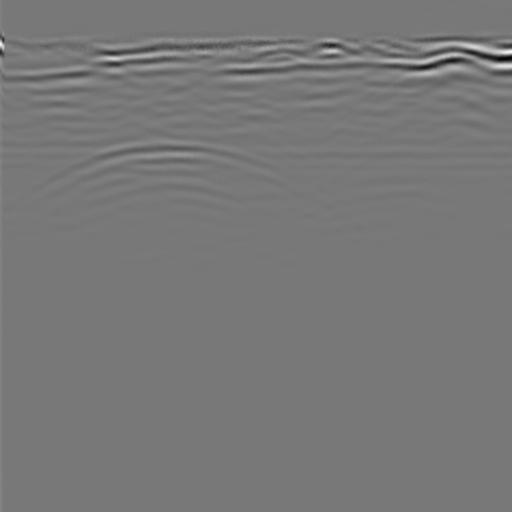hyperbola: (24, 125, 301, 266)
